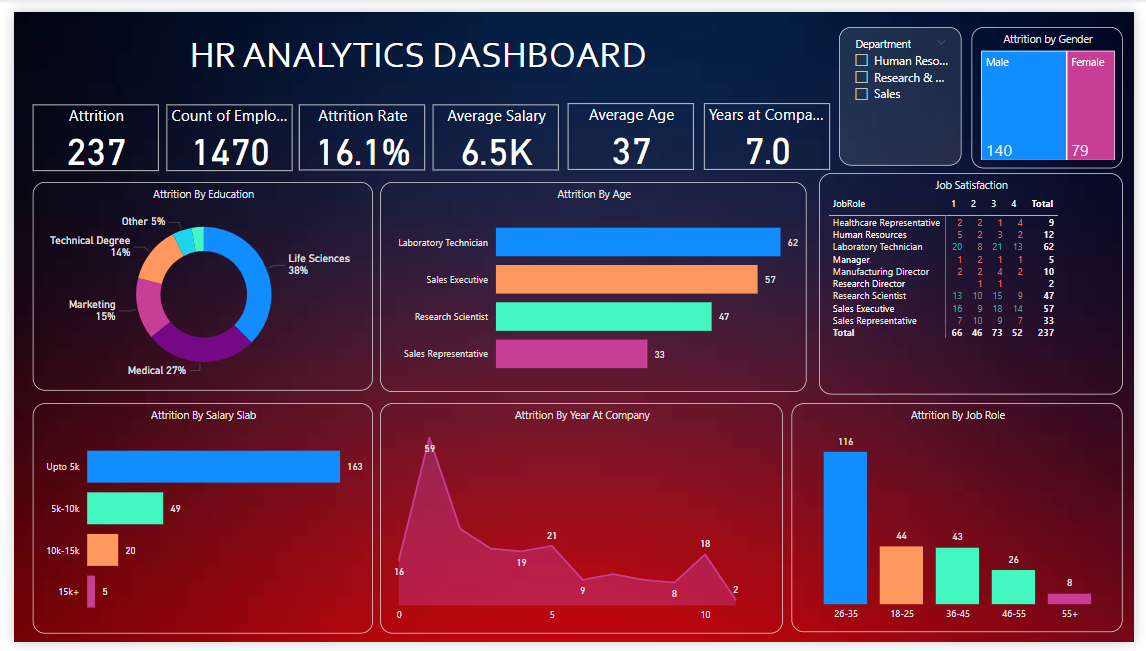

Layout of this report page (visuals, bound fields, positions):
{"tool":"powerbi","page":{"name":"Dashboard","canvas":[1280,720],"ordinal":0},"visuals":[{"type":"card","title":"Attrition","fields":{"Values":["CountNonNull(Sheet1 (2).AttritionCount)"]},"box":[21.4,105.7,144,75.7],"z":0},{"type":"card","title":"Attrition Rate","fields":{"Values":["HR_Analytics.AttritionRate"]},"box":[325.1,105.7,144.3,75],"z":1000},{"type":"card","title":"Average Salary","fields":{"Values":["Avg(HR_Analytics.MonthlyIncome)"]},"box":[478,105.7,144.3,75],"z":2000},{"type":"card","title":"Years at Company","fields":{"Values":["Avg(HR_Analytics.YearsAtCompany)"]},"box":[788,104.3,144.3,75.7],"z":3000},{"type":"card","title":"Count of Employee","fields":{"Values":["CountNonNull(Sheet1 (2).EmpID)"]},"box":[173.7,105.7,144.3,75.7],"z":4000},{"type":"card","title":"Average Age","fields":{"Values":["Avg(HR_Analytics.Age)"]},"box":[632.3,104.3,144.3,75.7],"z":5000},{"type":"donutChart","title":"Attrition By Education","fields":{"Category":["HR_Analytics.EducationField"],"Y":["Sum(HR_Analytics.AttritionCount)"]},"box":[21.4,194.3,388.6,238.6],"z":6000},{"type":"columnChart","title":"Attrition By Job Role","fields":{"Category":["HR_Analytics.AgeGroup"],"Y":["Sum(HR_Analytics.AttritionCount)"]},"box":[888.6,447.1,378.6,261.4],"z":7000},{"type":"pivotTable","title":"Job Satisfaction","fields":{"Rows":["HR_Analytics.JobRole"],"Columns":["HR_Analytics.JobSatisfaction"],"Values":["Sum(HR_Analytics.AttritionCount)"]},"box":[920,184.3,347.1,252.9],"z":8000},{"type":"barChart","title":"Attrition By Salary Slab","fields":{"Category":["HR_Analytics.SalarySlab"],"Y":["Sum(HR_Analytics.AttritionCount)"]},"box":[21.4,447.1,388.6,262.9],"z":9000},{"type":"areaChart","title":"Attrition By Year At Company","fields":{"Category":["HR_Analytics.YearsAtCompany"],"Y":["Sum(HR_Analytics.AttritionCount)"]},"box":[418.6,447.1,460,262.9],"z":10000},{"type":"barChart","title":"Attrition By Age","fields":{"Category":["HR_Analytics.JobRole"],"Y":["Sum(HR_Analytics.AttritionCount)"]},"box":[418.6,194.3,487.1,240],"z":11000},{"type":"treemap","title":"Attrition by Gender","fields":{"Group":["HR_Analytics.Gender"],"Values":["Sum(HR_Analytics.AttritionCount)"]},"box":[1094.3,16.7,172.9,161.4],"z":12000},{"type":"slicer","fields":{"Values":["HR_Analytics.Department"]},"box":[942.9,16.7,140,158.6],"z":13000},{"type":"textbox","box":[195.7,17.1,548.6,78.6],"z":14000}]}

Visuals, with their boxes in screenshot pixels (x1, y1, x2, y2), scaled from the page's 1280x720 canvas onto the 1146x651 screenshot:
"Attrition" card: <box>19,96,148,164</box>
"Attrition Rate" card: <box>291,96,420,163</box>
"Average Salary" card: <box>428,96,557,163</box>
"Years at Company" card: <box>706,94,835,163</box>
"Count of Employee" card: <box>156,96,285,164</box>
"Average Age" card: <box>566,94,695,163</box>
"Attrition By Education" donutChart: <box>19,176,367,391</box>
"Attrition By Job Role" columnChart: <box>796,404,1135,641</box>
"Job Satisfaction" pivotTable: <box>824,167,1134,395</box>
"Attrition By Salary Slab" barChart: <box>19,404,367,642</box>
"Attrition By Year At Company" areaChart: <box>375,404,787,642</box>
"Attrition By Age" barChart: <box>375,176,811,393</box>
"Attrition by Gender" treemap: <box>980,15,1135,161</box>
slicer - HR_Analytics.Department: <box>844,15,970,159</box>
textbox: <box>175,15,666,87</box>
